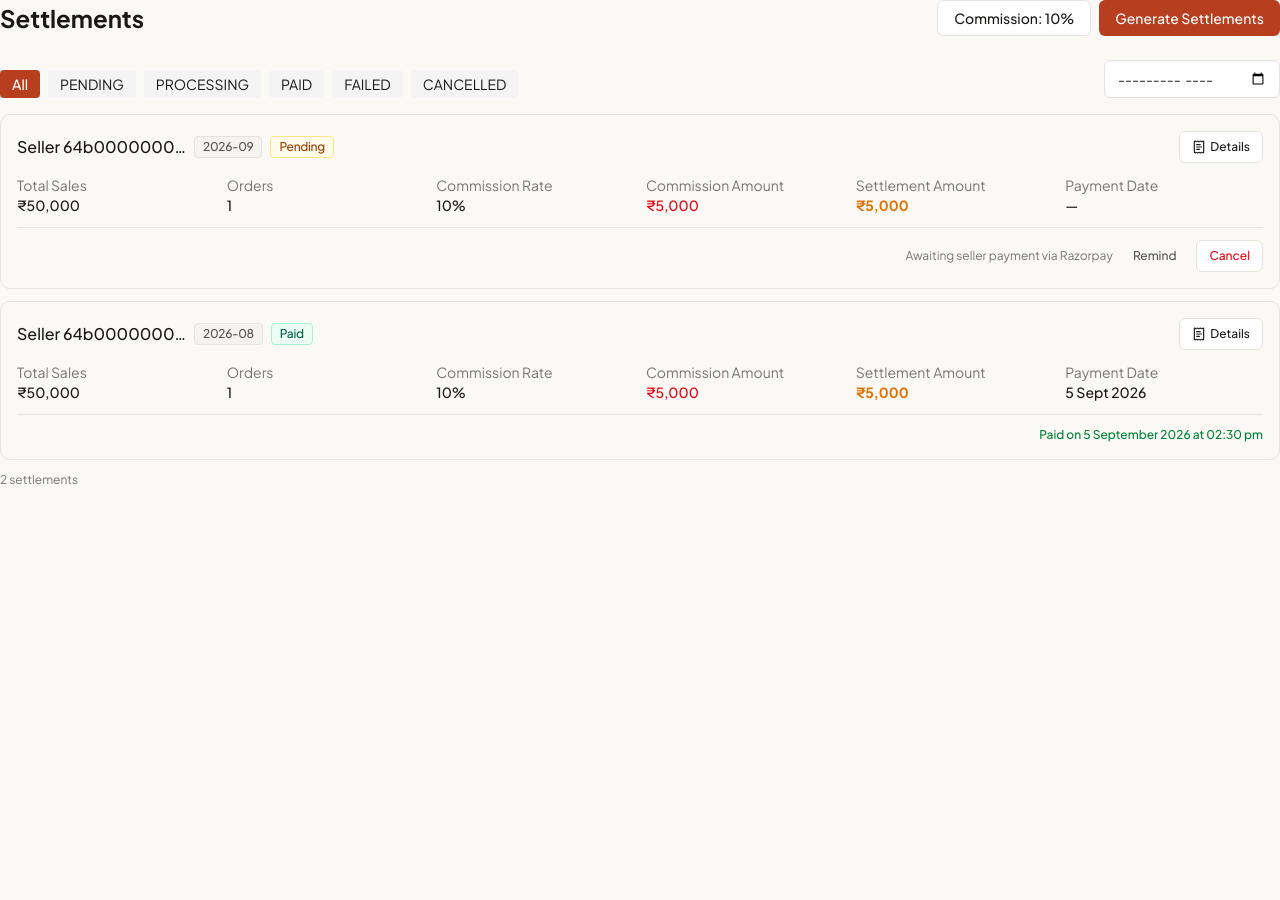
Test: Super Admin Settlement UI › displays payment details in the details dialog without exposing secret information
The width and height of the screenshot is (1280, 900).
Click the button "Details" in the row of "2026-09": (1221, 147) [1179,131,1263,163]
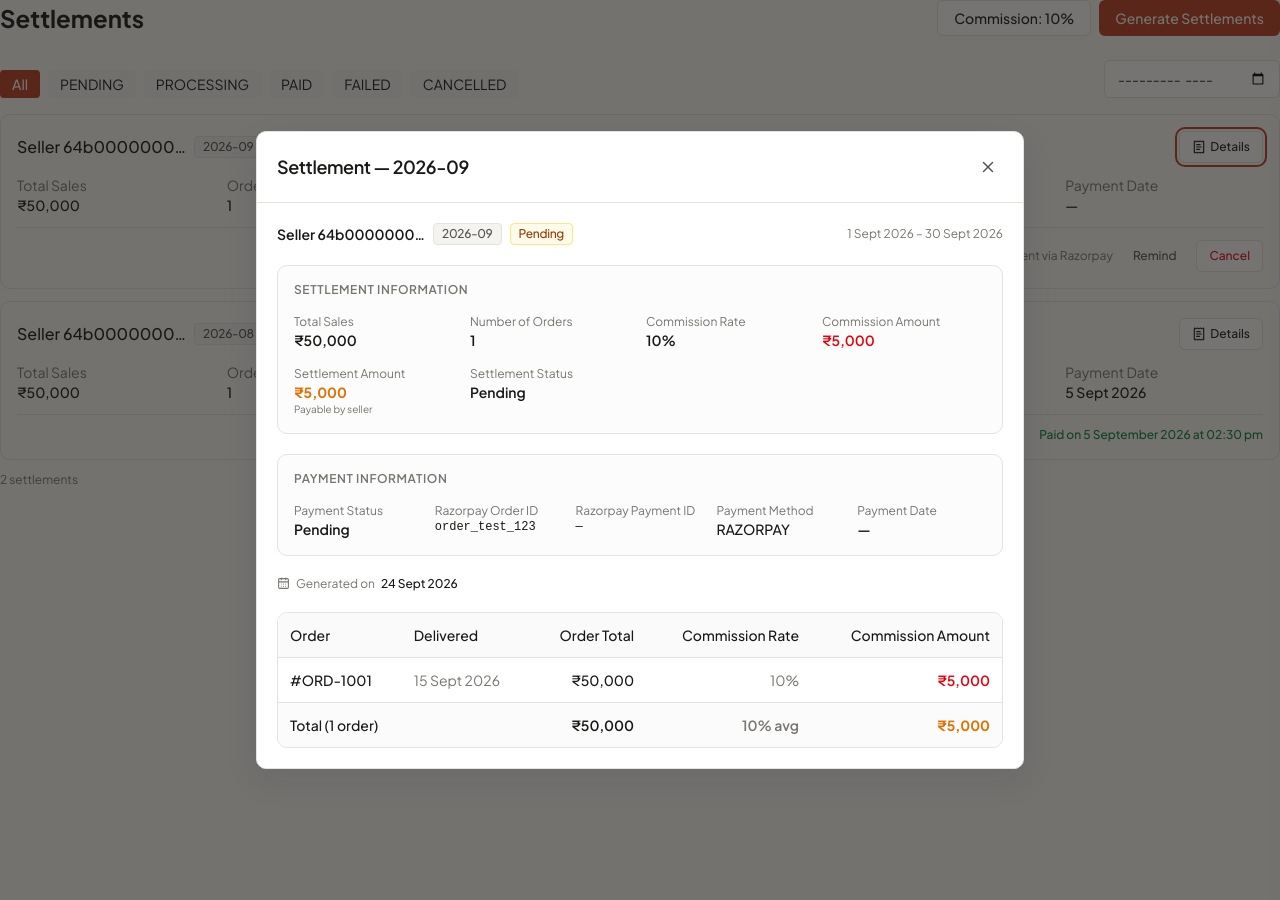
Now the heading "Payment Information" is shown, box [294,471,447,486]
Now the text "order_test_123" is shown, box [435,520,536,534]
Now the text "RAZORPAY" is shown, box [716,520,790,538]
